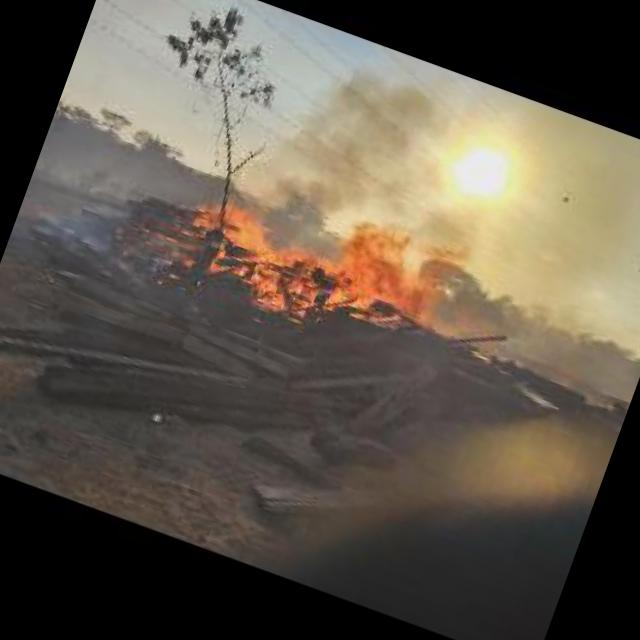fire: (140, 146, 463, 356)
smoke: (259, 42, 448, 258)
